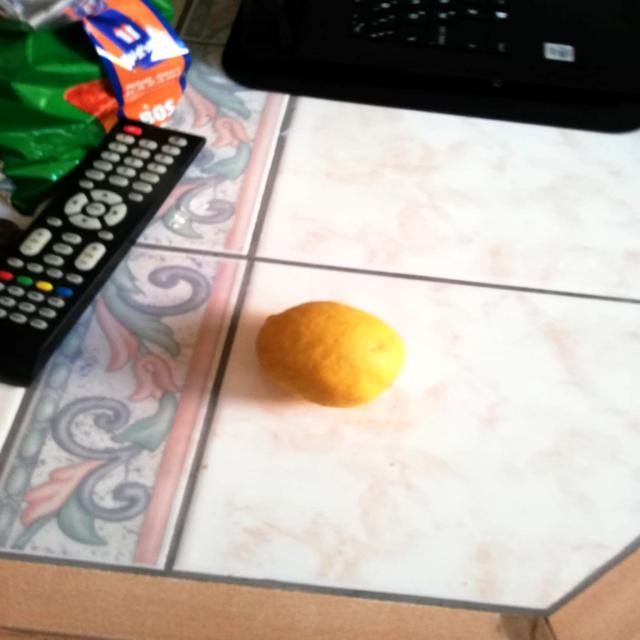lemon: (248, 292, 412, 414)
